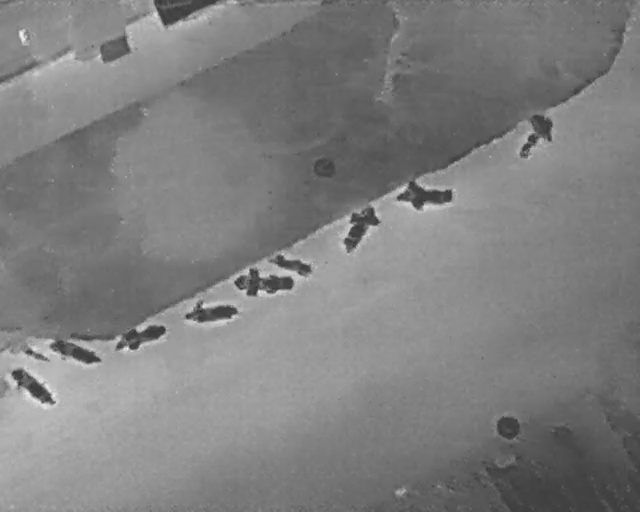Bicycle: (329, 195, 388, 261), (505, 106, 564, 166), (5, 360, 61, 415), (106, 313, 171, 359), (44, 328, 107, 373), (391, 173, 455, 213), (181, 292, 241, 329), (231, 265, 295, 297), (263, 244, 317, 280)
